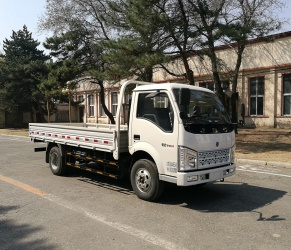smalltruck: (18, 67, 233, 203)
